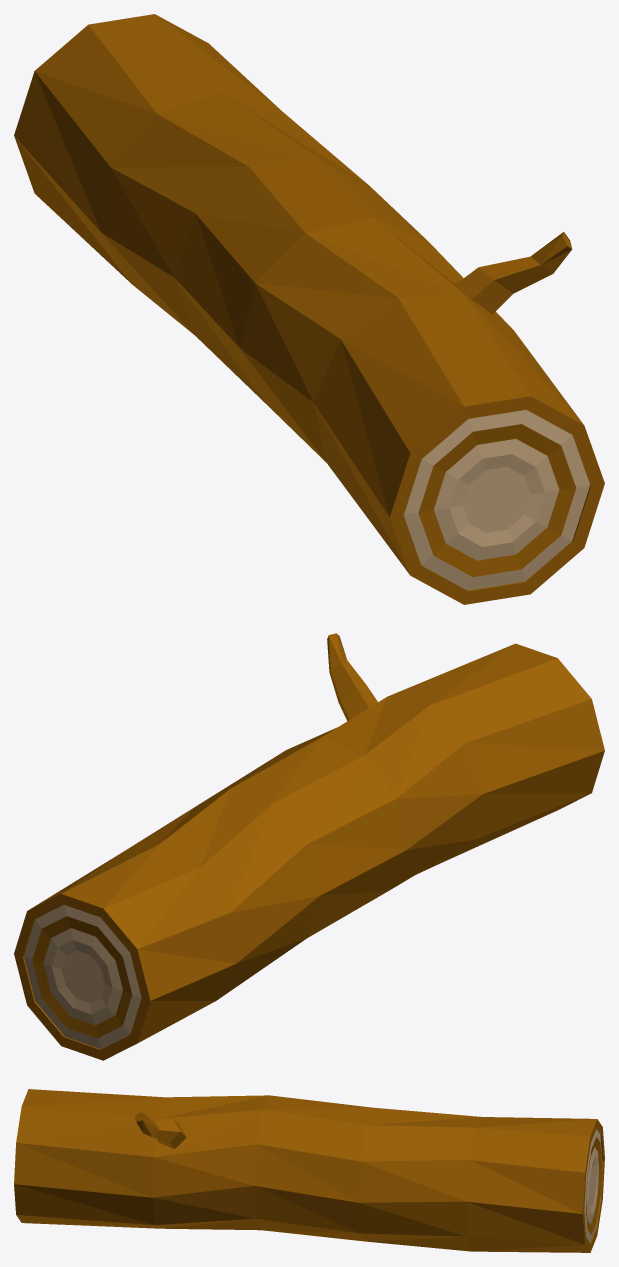
File: Vegetation_Tree_Trunk_Fallen_11.fbx
3 renders of one model, top to bottom at view 1: azimuth 30°, elevation 25°; view 2: azimuth 150°, elevation 25°; view 3: azimuth 270°, elevation 25°, orthographic. The views are drawn at different scales.
Visible parts, largest first — view 1: Vegetation_Tree_Trunk_Fallen_11; view 2: Vegetation_Tree_Trunk_Fallen_11; view 3: Vegetation_Tree_Trunk_Fallen_11.
Part boxes in pixels (<box>): Vegetation_Tree_Trunk_Fallen_11: <box>14,14,604,604</box>; Vegetation_Tree_Trunk_Fallen_11: <box>14,633,604,1060</box>; Vegetation_Tree_Trunk_Fallen_11: <box>14,1089,604,1252</box>.
Size of the model in its own units: 49.3 by 40.09 by 141.
